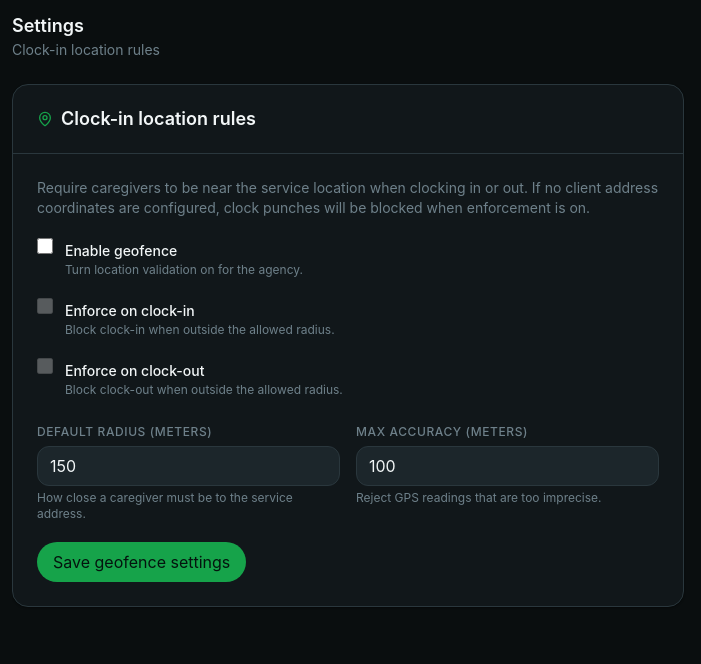
GeofenceSettingsPage › saves updated geofence settings
The width and height of the screenshot is (701, 664).
Click the checkbox labelled "Enable geofence": click(45, 246) 37,238 -> 53,254
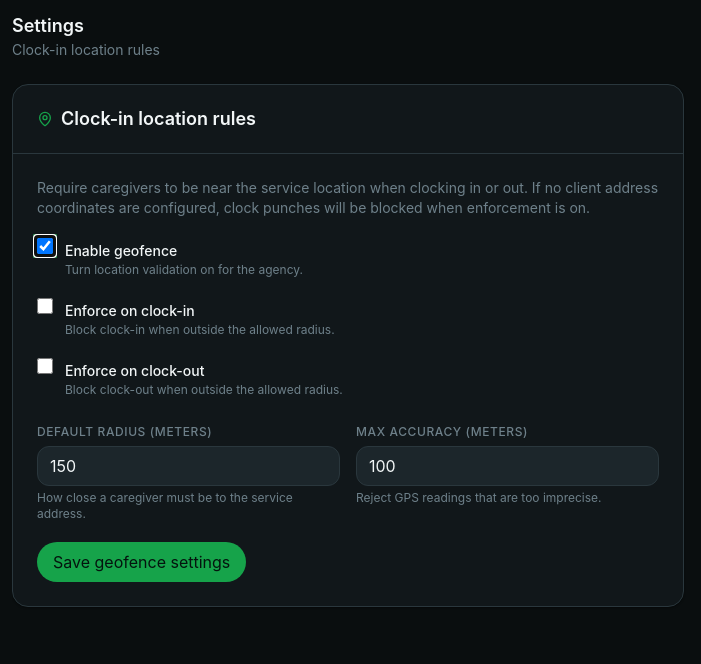
Click the checkbox labelled "Enforce on clock-in": click(45, 306) 37,298 -> 53,314
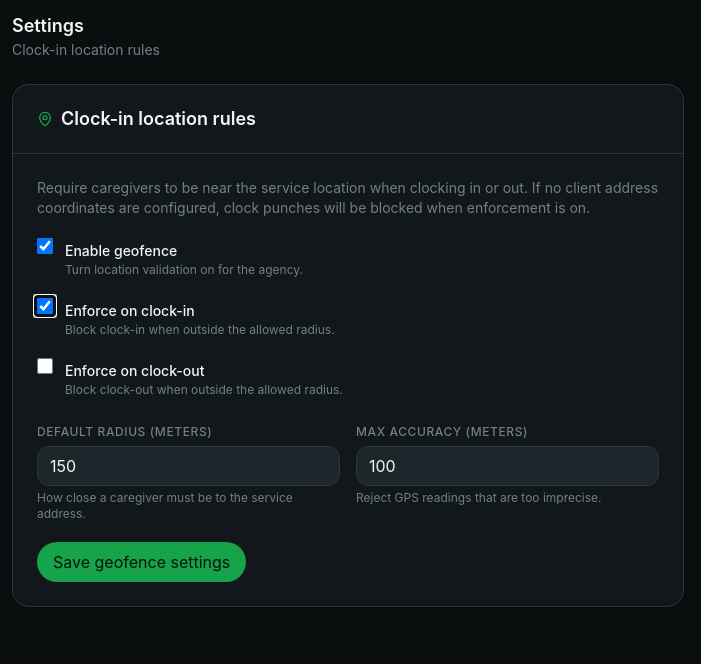
Replace the text in the number field below "Default radius (meters)" with "200": (188, 466) 37,446 -> 340,486
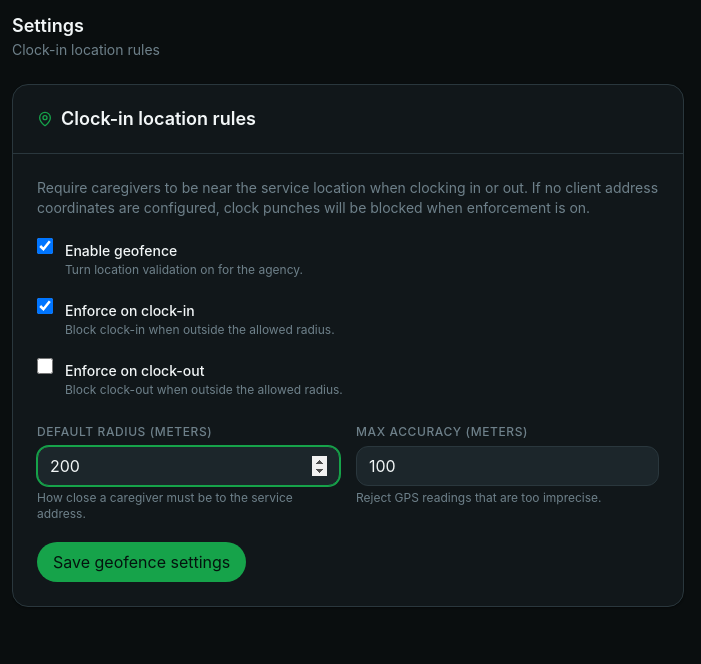
Replace the text in the number field below "Max accuracy (meters)" with "25": (508, 466) 356,446 -> 659,486
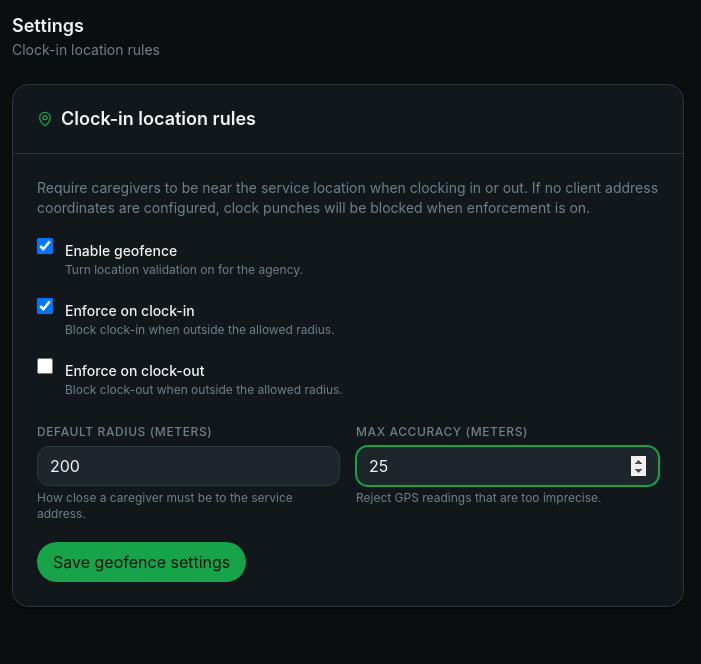
Click the button "Save geofence settings": click(142, 562) 37,542 -> 246,582
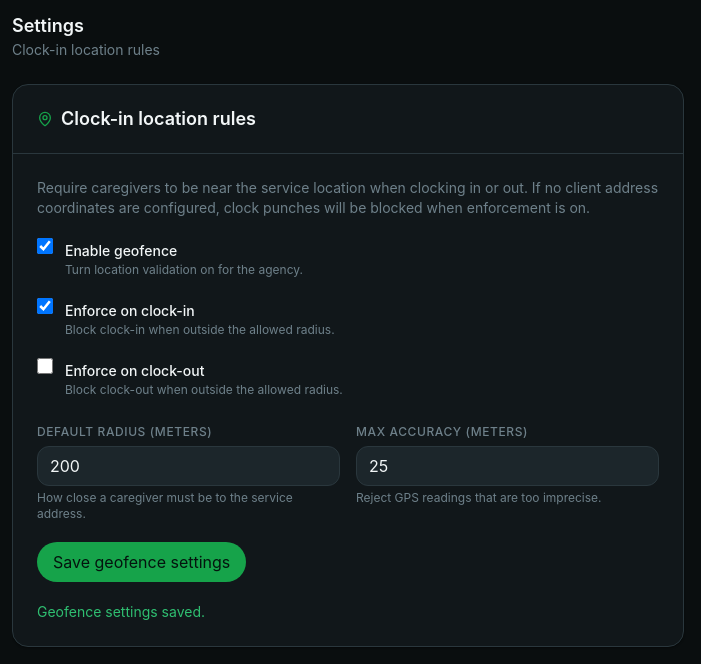
Expected: the text "Geofence settings saved." is shown, 37,603 -> 205,620
